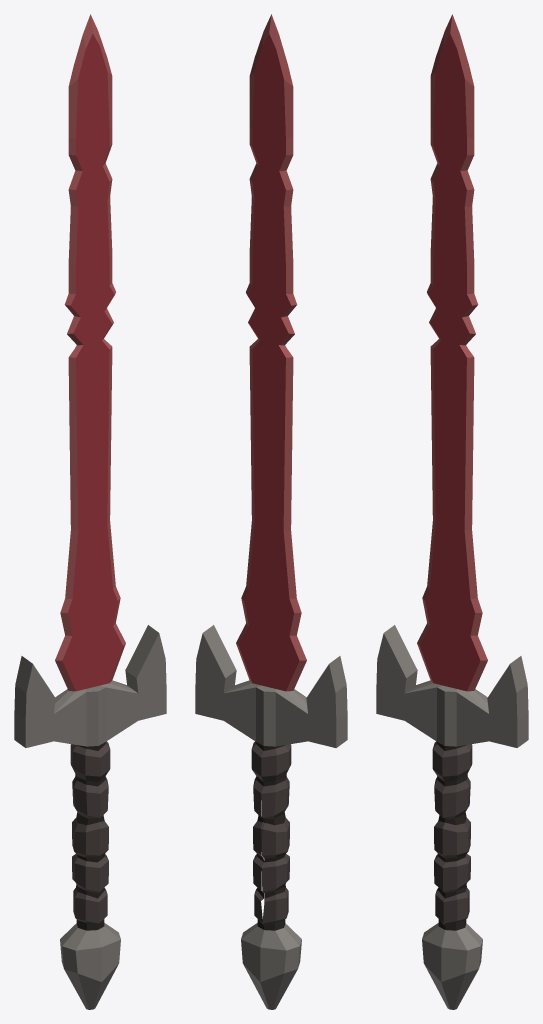
The model's file is quaternius-medieval-weapons-claymore.glb.
3 renders of one model, left to right at view 1: azimuth 30°, elevation 25°; view 2: azimuth 150°, elevation 25°; view 3: azimuth 330°, elevation 25°, orthographic.
Parts seen in each view (by area): view 1: Claymore; view 2: Claymore; view 3: Claymore.
Part boxes in pixels (x1=…): Claymore: x1=14, y1=14, x2=166, y2=1009; Claymore: x1=195, y1=14, x2=347, y2=1009; Claymore: x1=376, y1=14, x2=528, y2=1009.
Bounding box in the file's own units: 0.9781 × 6.59 × 0.2713.
Materials: 1 (1 with a texture image).
